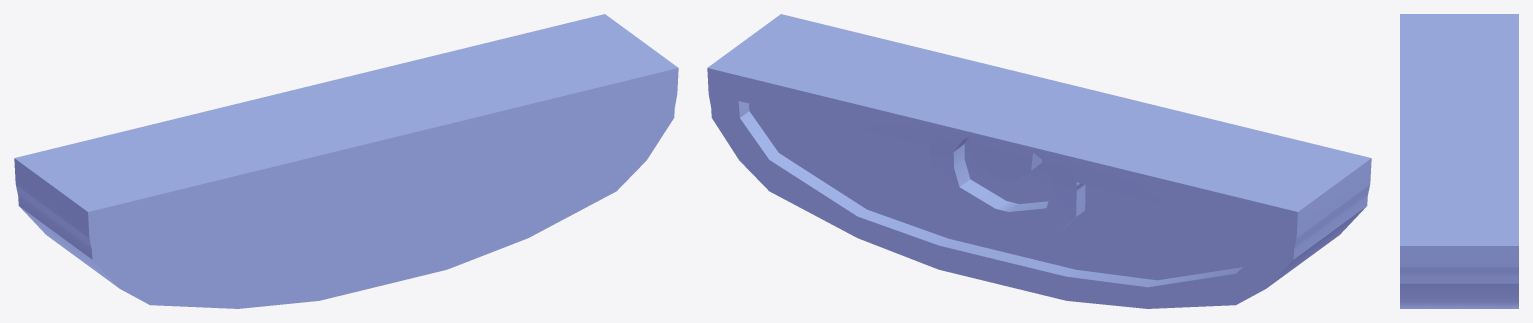
The model's file is Platform_3_Fixed.fbx.
The picture shows the model from 3 angles, left to right: view 1: azimuth 30°, elevation 25°; view 2: azimuth 150°, elevation 25°; view 3: azimuth 270°, elevation 25°; orthographic projection. The views are drawn at different scales.
Visible parts, largest first — view 1: Platform_3; view 2: Platform_3; view 3: Platform_3.
Part boxes in pixels (<box>): Platform_3: <box>14,14,678,308</box>; Platform_3: <box>707,14,1371,308</box>; Platform_3: <box>1400,14,1518,308</box>.
Size of the model in its own units: 8.71 by 2.05 by 1.88.
